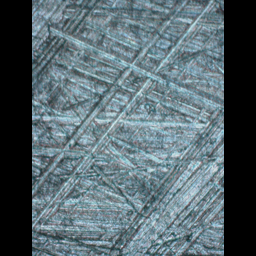d: (106, 103, 223, 256), (47, 22, 220, 112)
